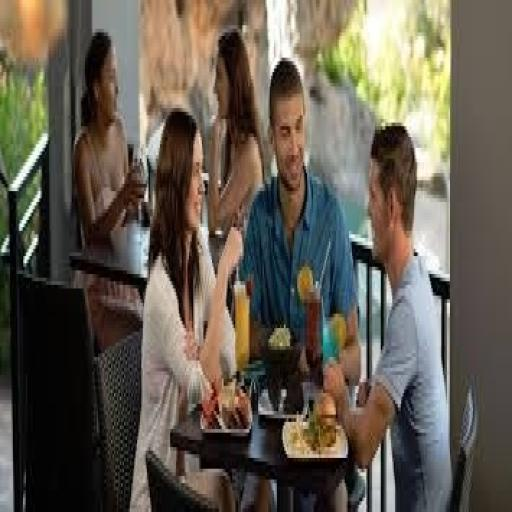eating: (70, 22, 454, 504)
